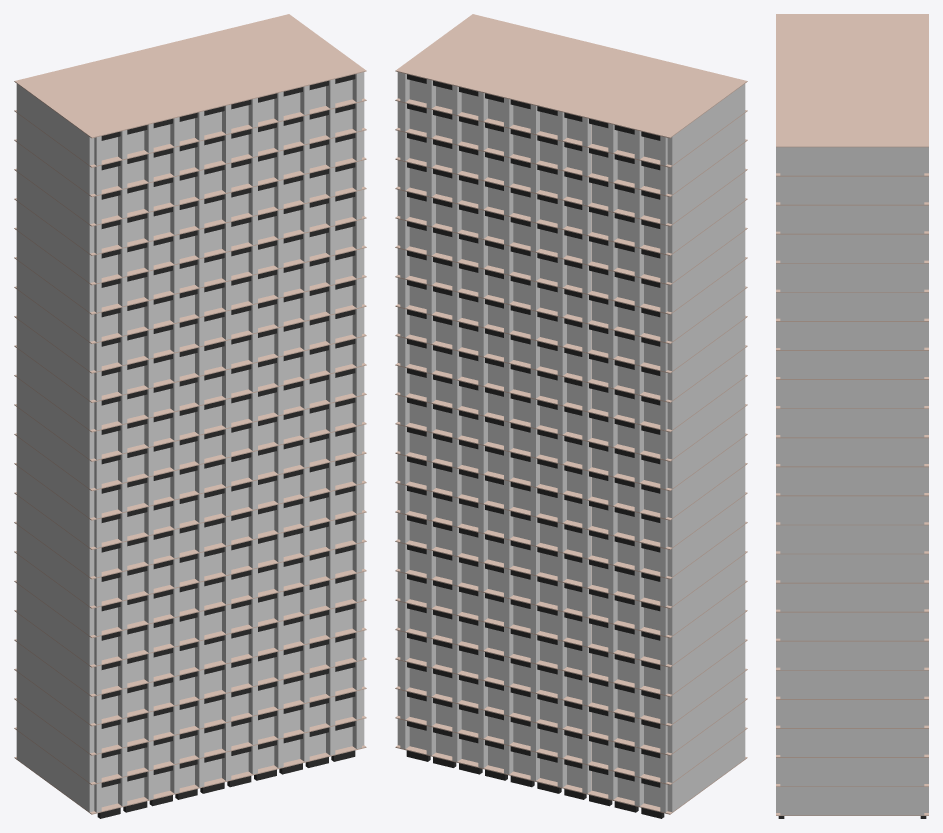
Rendered from MSH_Torre-B.fbx.
The picture shows the model from 3 angles, left to right: view 1: azimuth 30°, elevation 25°; view 2: azimuth 150°, elevation 25°; view 3: azimuth 270°, elevation 25°; orthographic projection.
Visible parts, largest first — view 1: MSH_Torre-B; view 2: MSH_Torre-B; view 3: MSH_Torre-B.
Boxes of the visible parts, x1,y1,x2,y2 form: MSH_Torre-B: [14, 14, 366, 818]; MSH_Torre-B: [395, 14, 747, 818]; MSH_Torre-B: [776, 14, 928, 818].
Size of the model in its own units: 3226 by 7686 by 1573.
